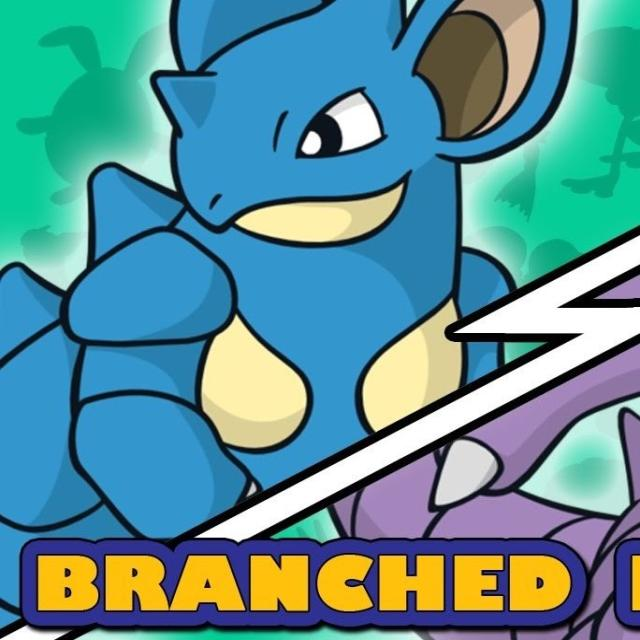Nidoqueen: (22, 0, 524, 433)
